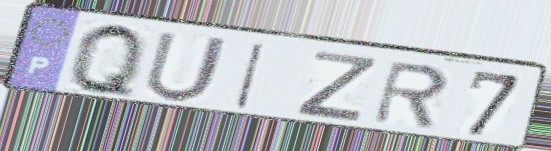7: (463, 68, 524, 138)
I: (230, 40, 269, 111)
Q: (68, 20, 147, 103)
R: (370, 59, 452, 131)
U: (141, 29, 233, 105)
Z: (292, 48, 382, 124)
